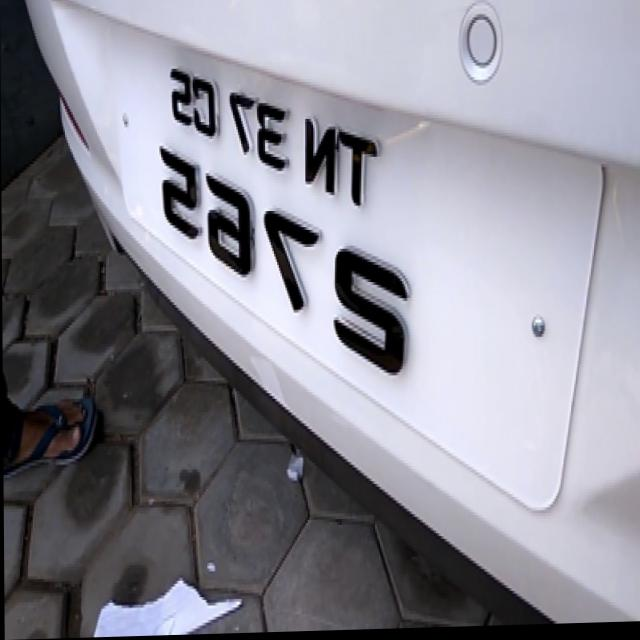licence: (157, 2, 420, 415)
